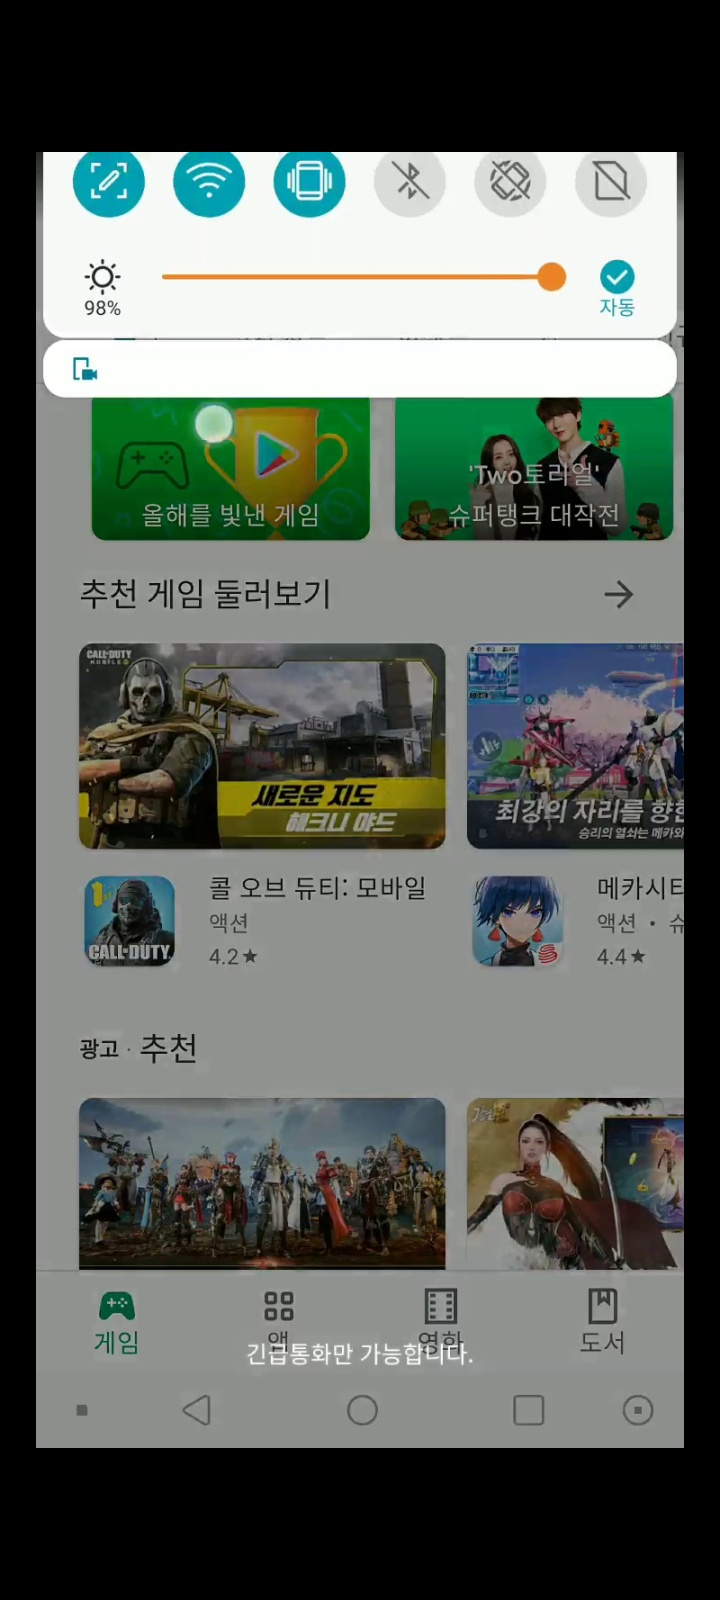Cursor: (190, 402, 235, 447)
